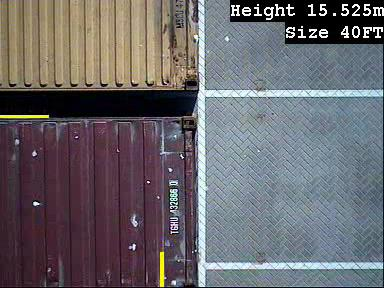groundmarker_2: (148, 188, 268, 274)
